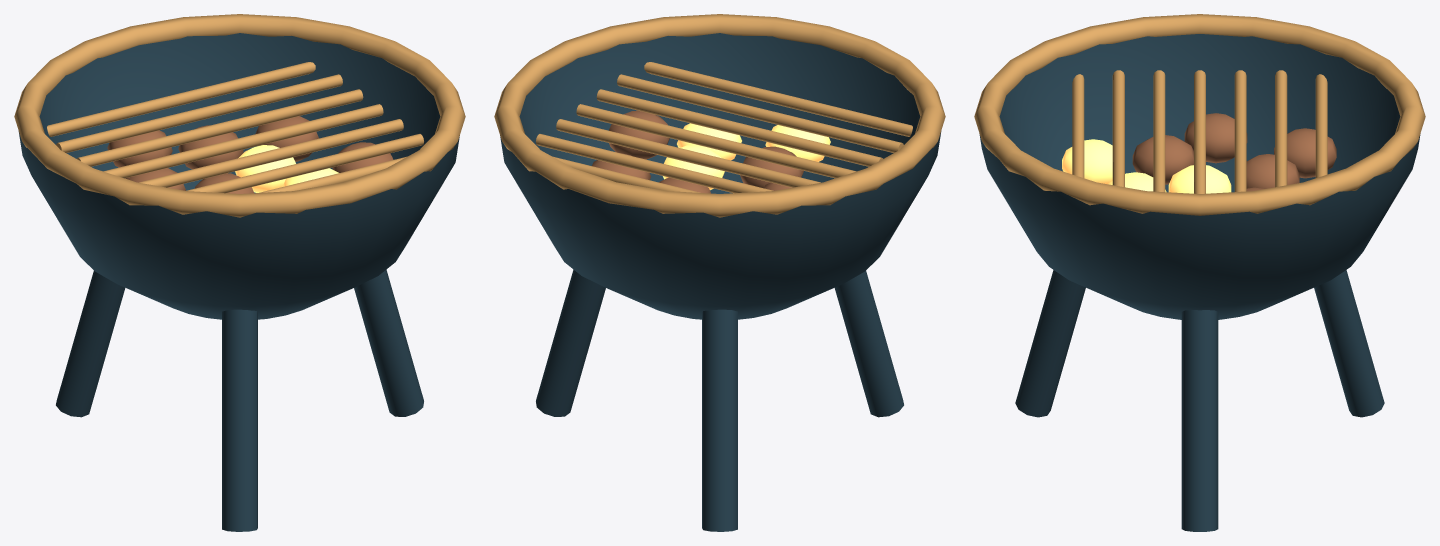
File: storybook-christmas-market-chestnut-brazier-5d37224e.glb
3 views of the same model, side by side, from view 1: azimuth 30°, elevation 25°; view 2: azimuth 150°, elevation 25°; view 3: azimuth 270°, elevation 25° (orthographic).
Visible parts, largest first — view 1: chestnut-brazier; view 2: chestnut-brazier; view 3: chestnut-brazier.
Boxes of the visible parts, <box> form: chestnut-brazier: <box>14,14,465,531</box>; chestnut-brazier: <box>494,14,945,531</box>; chestnut-brazier: <box>974,14,1425,531</box>.
Size of the model in its own units: 0.89 by 0.7513 by 0.89.
